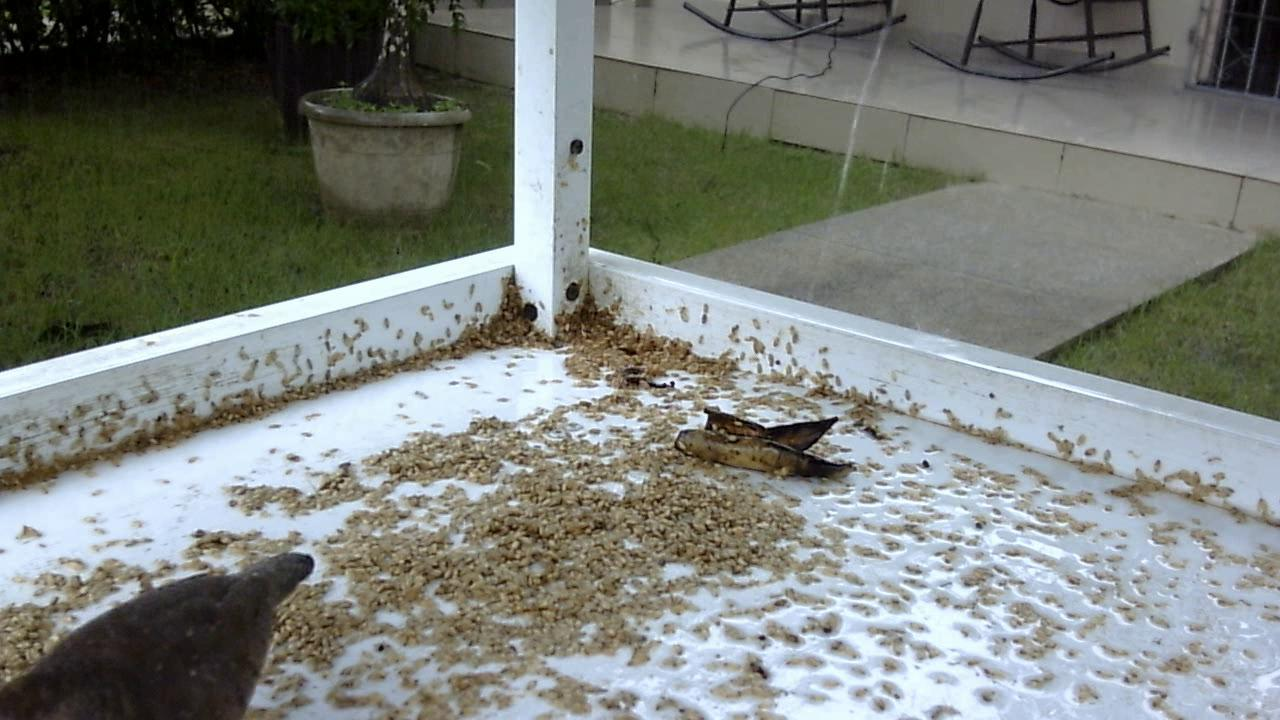rolinha: (1, 548, 326, 716)
